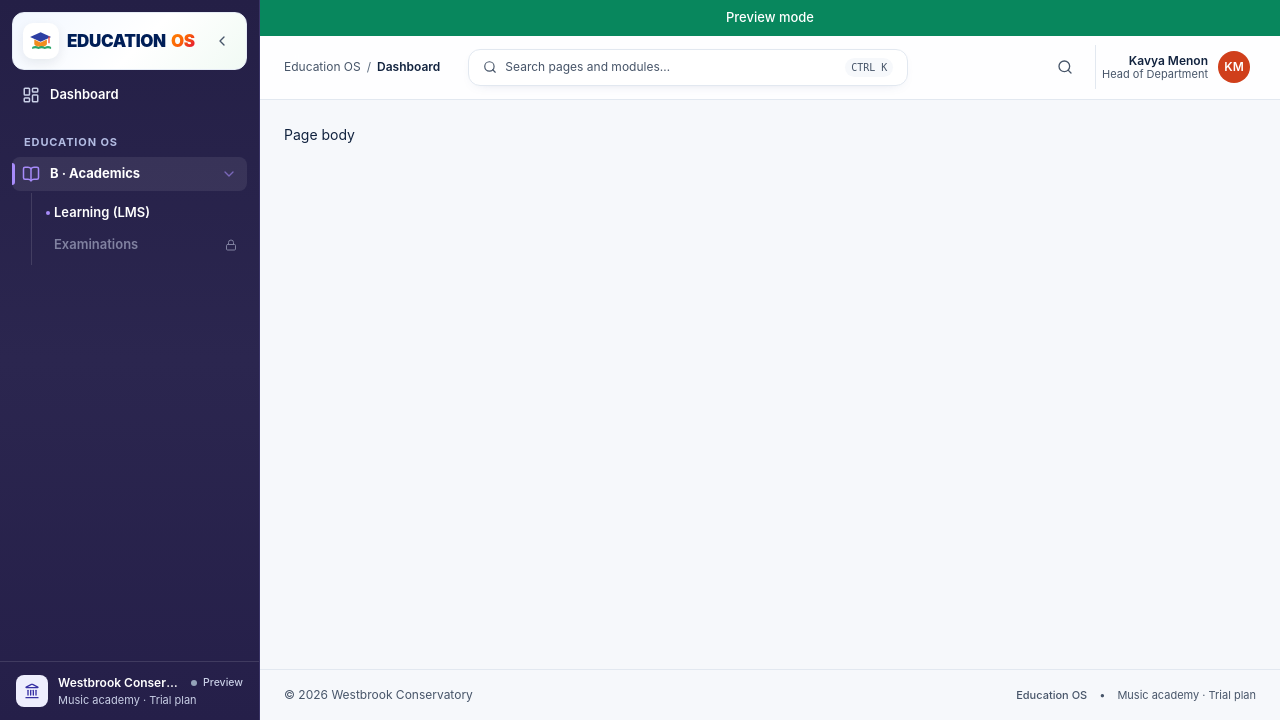
Scenario: AppShell › folds a suite when its header is clicked and collapses the sidebar
The image size is (1280, 720).
Click the button "B · Academics" at (130, 174), box [12, 156, 247, 190]
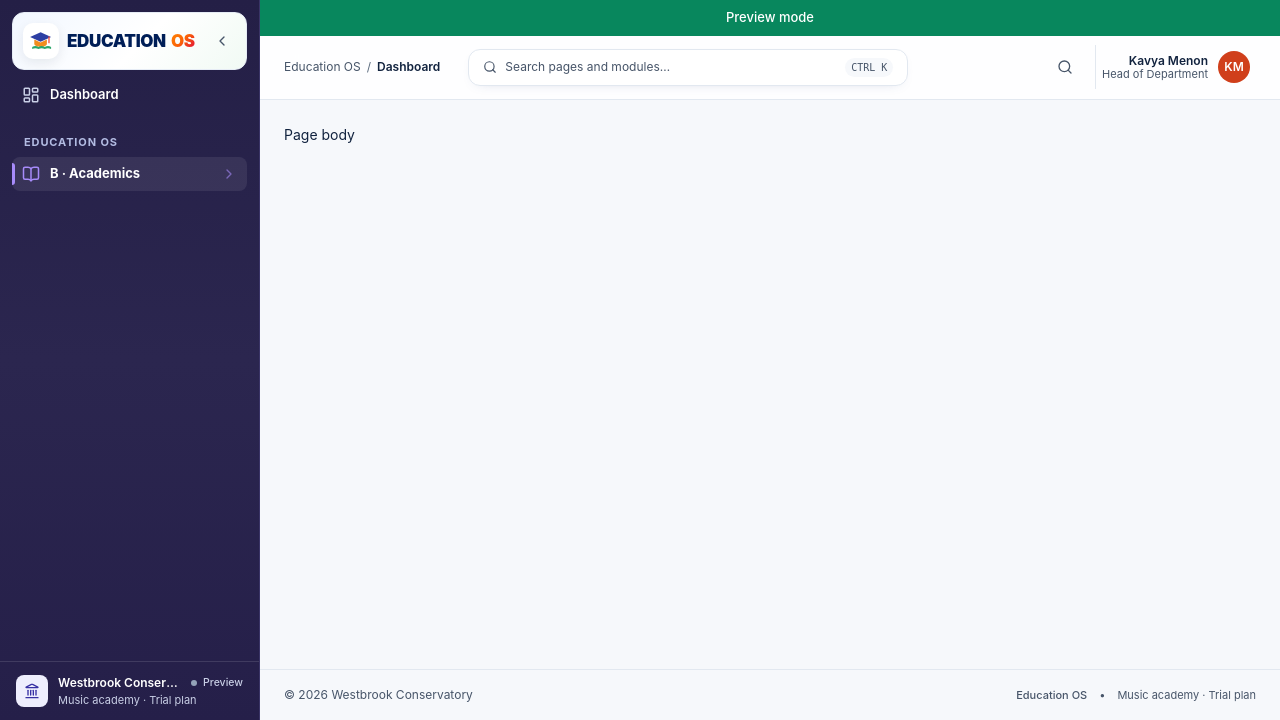
Now the button "B · Academics" is collapsed, box [12, 156, 247, 190]
Click the button named "Collapse sidebar" at (222, 41), box [208, 27, 236, 55]
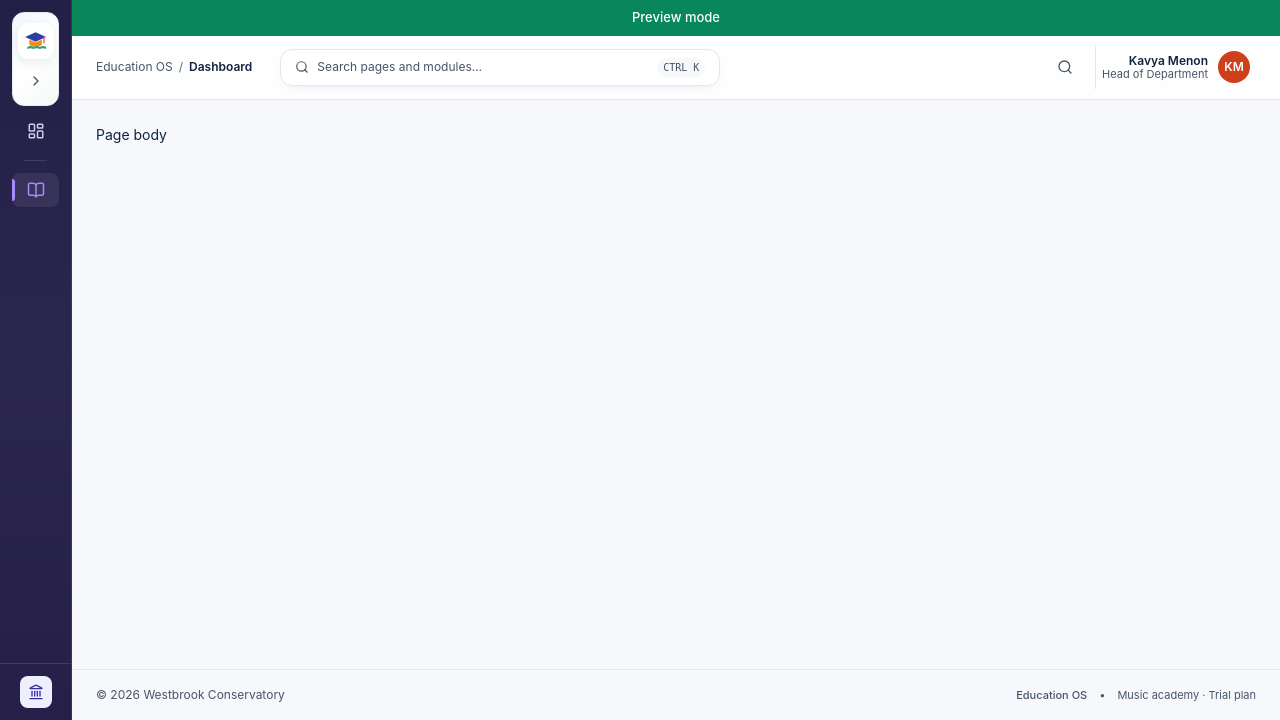
Now the element with class "eos-shell--collapsed" is shown
Now the button named "Expand sidebar" is shown, box [22, 67, 50, 95]
